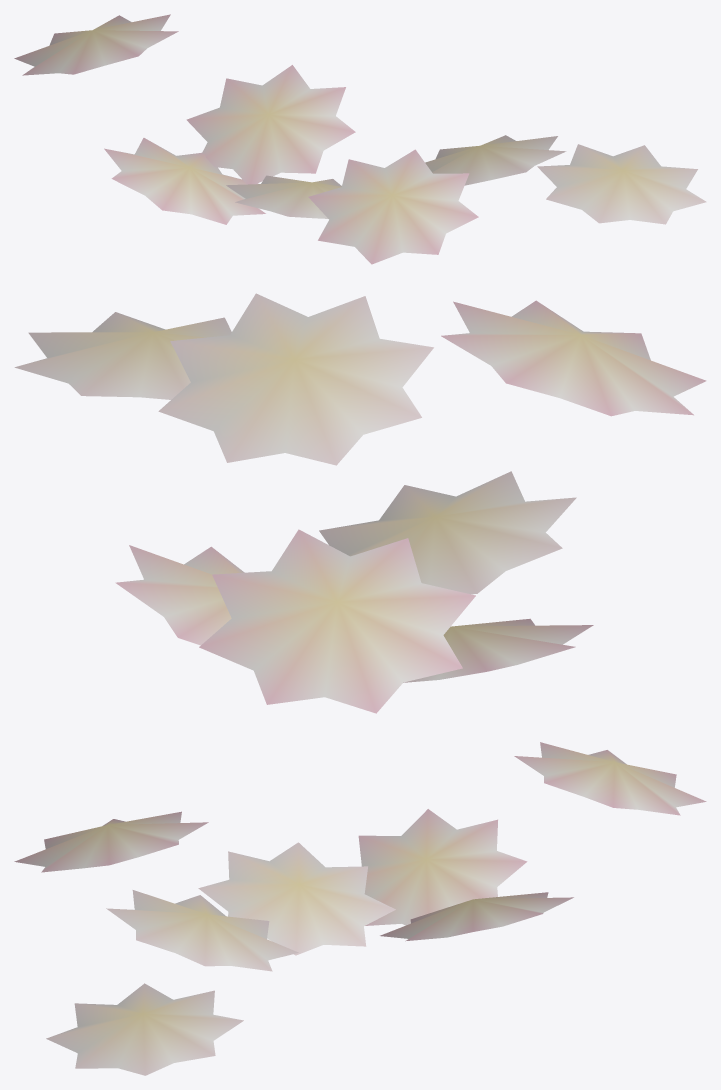
Rendered from daisy.glb.
3 renders of one model, top to bottom at view 1: azimuth 30°, elevation 25°; view 2: azimuth 150°, elevation 25°; view 3: azimuth 270°, elevation 25°, orthographic. The views are drawn at different scales.
Visible parts, largest first — view 1: near; view 2: near; view 3: near.
Boxes of the visible parts, box(x1,y1,x2,y2) form: near: box(14, 14, 706, 264); near: box(14, 293, 706, 713); near: box(14, 742, 706, 1075).
Size of the model in its own units: 0.2772 by 0.0697 by 0.3125.
